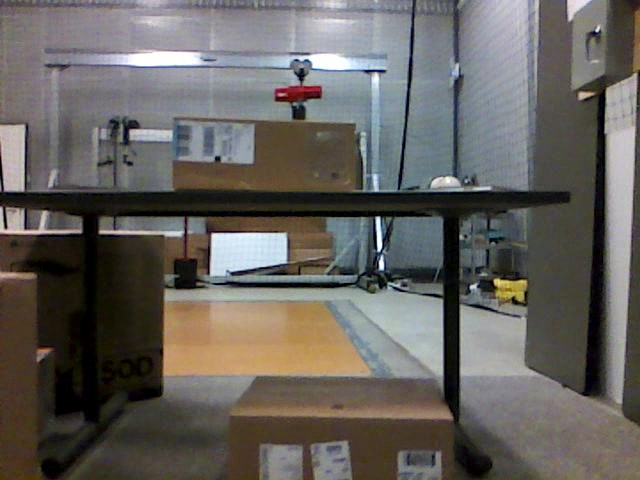box: (1, 230, 163, 398), (228, 376, 453, 480), (174, 116, 355, 191), (1, 273, 38, 477)
